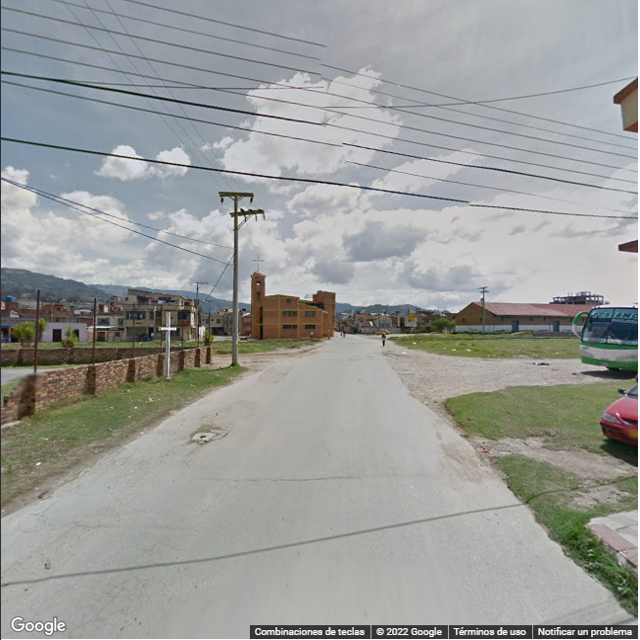D10: (199, 472, 360, 484)
D20: (62, 542, 188, 632)
